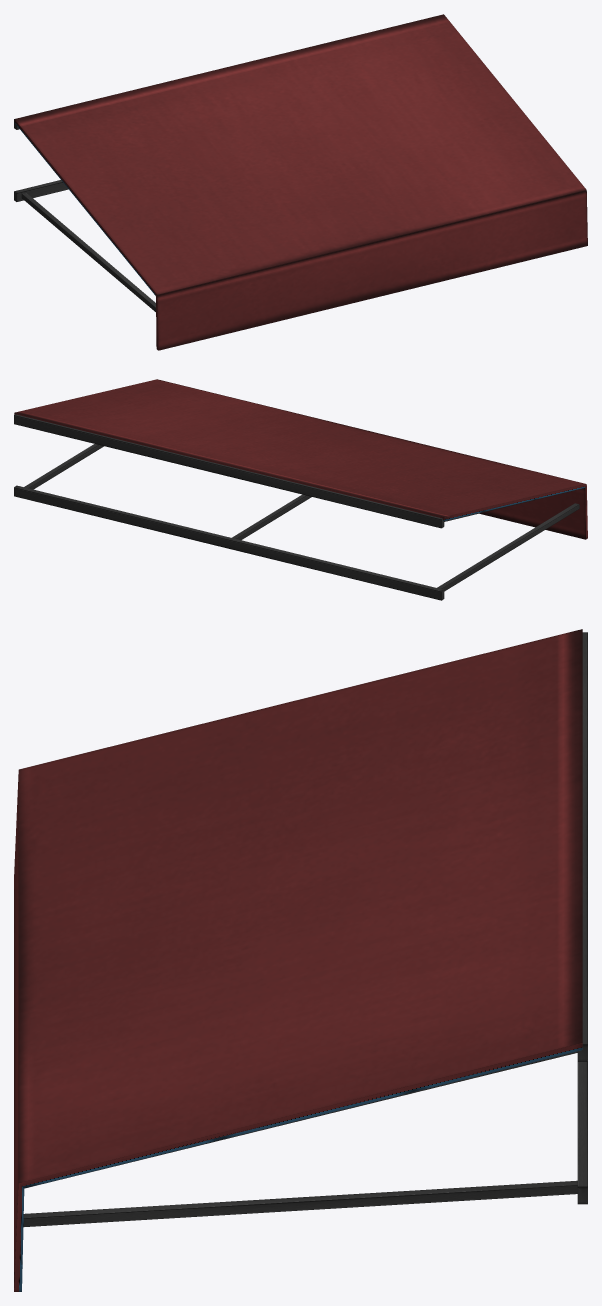
The model's file is ds_canopy_3_B.FBX.
3 views of the same model, one above another, from view 1: azimuth 30°, elevation 25°; view 2: azimuth 150°, elevation 25°; view 3: azimuth 270°, elevation 25° (orthographic). The views are drawn at different scales.
Visible parts, largest first — view 1: ds_canopy_3_B; view 2: ds_canopy_3_B; view 3: ds_canopy_3_B.
Part boxes in pixels (<box>): ds_canopy_3_B: <box>14,14,587,350</box>; ds_canopy_3_B: <box>14,379,587,600</box>; ds_canopy_3_B: <box>14,629,587,1291</box>.
Size of the model in its own units: 10.08 by 5.91 by 2.83.
